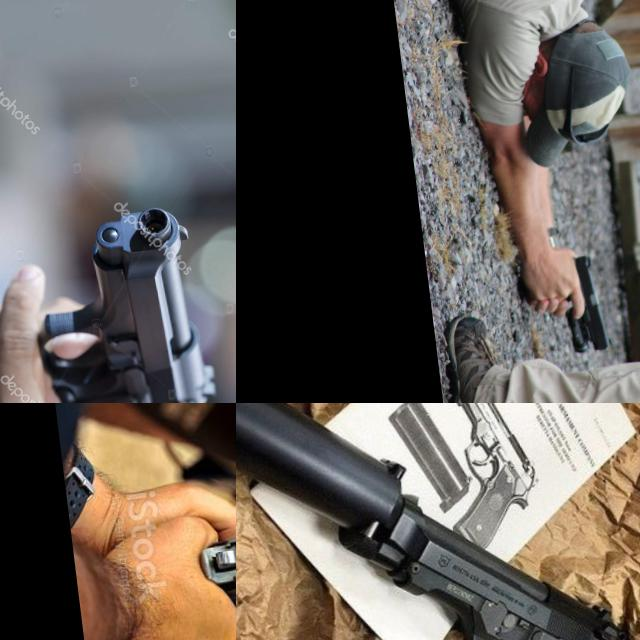handgun: (328, 466, 640, 640), (19, 196, 224, 403), (556, 249, 614, 358), (193, 516, 236, 624)
